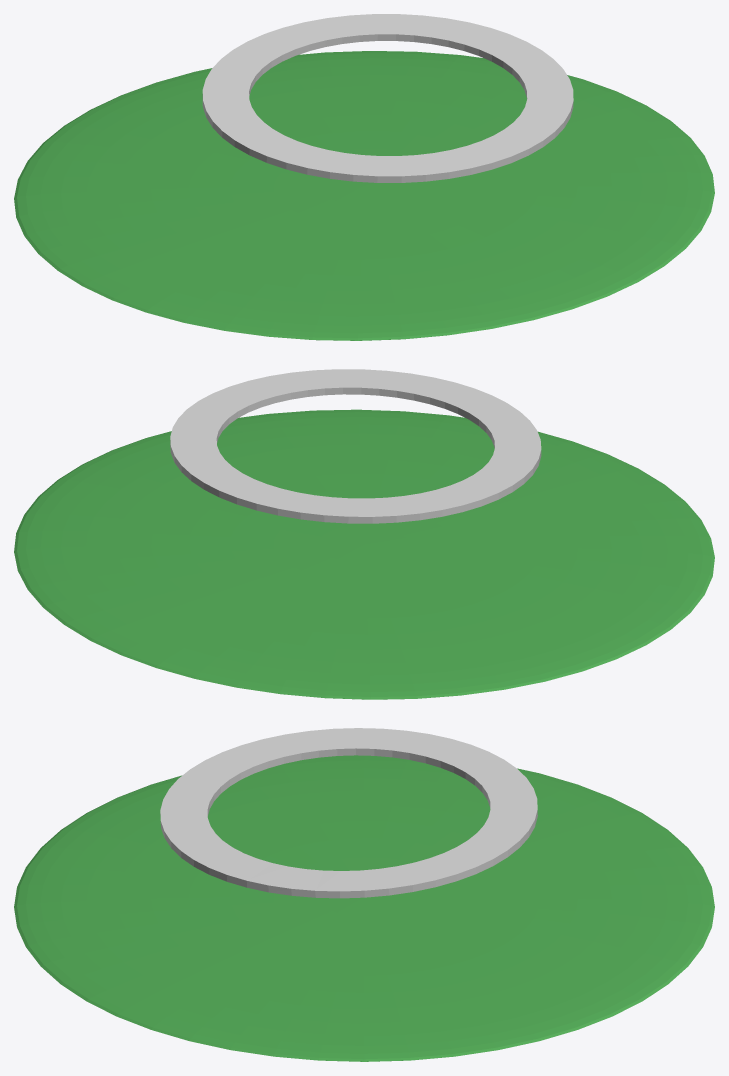
File: ExquisiteJofo.glb
3 views of the same model, one above another, from view 1: azimuth 30°, elevation 25°; view 2: azimuth 150°, elevation 25°; view 3: azimuth 270°, elevation 25° (orthographic). The views are drawn at different scales.
Visible parts, largest first — view 1: Mesh_Mesh_head_geo.001_lambert2SG.001; view 2: Mesh_Mesh_head_geo.001_lambert2SG.001; view 3: Mesh_Mesh_head_geo.001_lambert2SG.001.
Boxes of the visible parts, bbox=[...] form: Mesh_Mesh_head_geo.001_lambert2SG.001: bbox=[14, 14, 714, 340]; Mesh_Mesh_head_geo.001_lambert2SG.001: bbox=[14, 369, 714, 699]; Mesh_Mesh_head_geo.001_lambert2SG.001: bbox=[14, 728, 714, 1061].
Bounding box in the file's own units: 0.095 × 0.0173 × 0.091.
